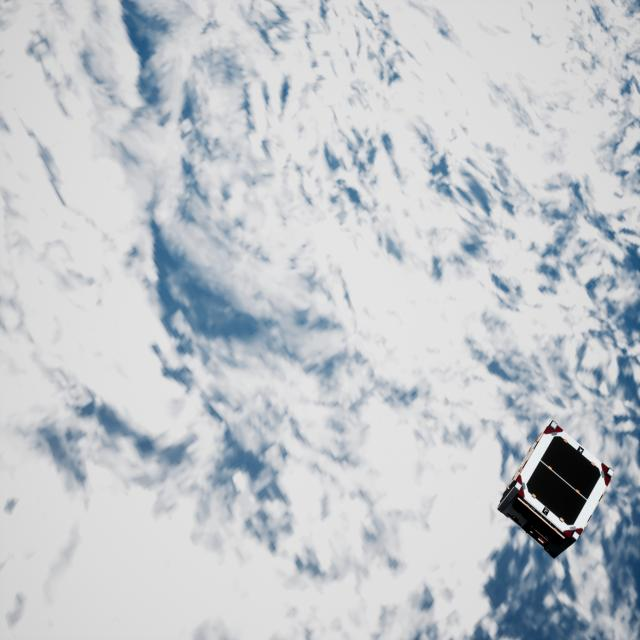medium_debris: (494, 420, 615, 560)
